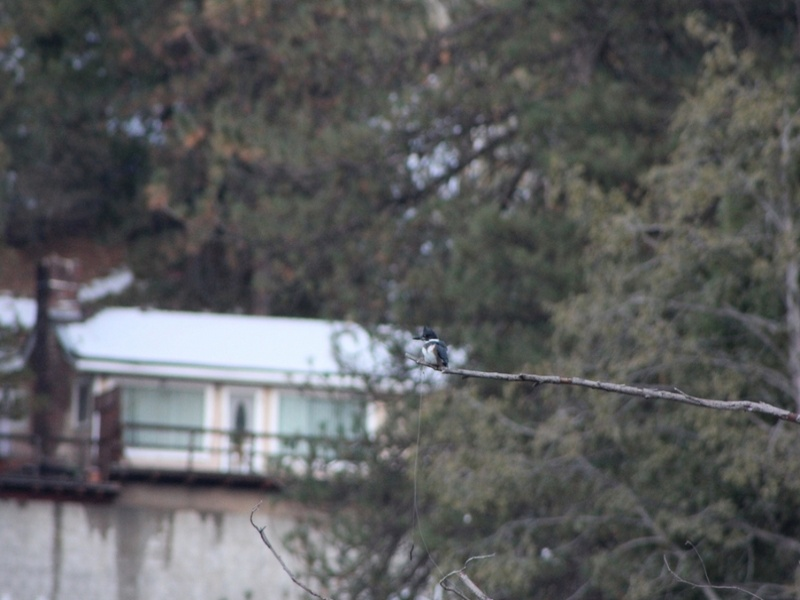kingfisher: (413, 329, 452, 371)
